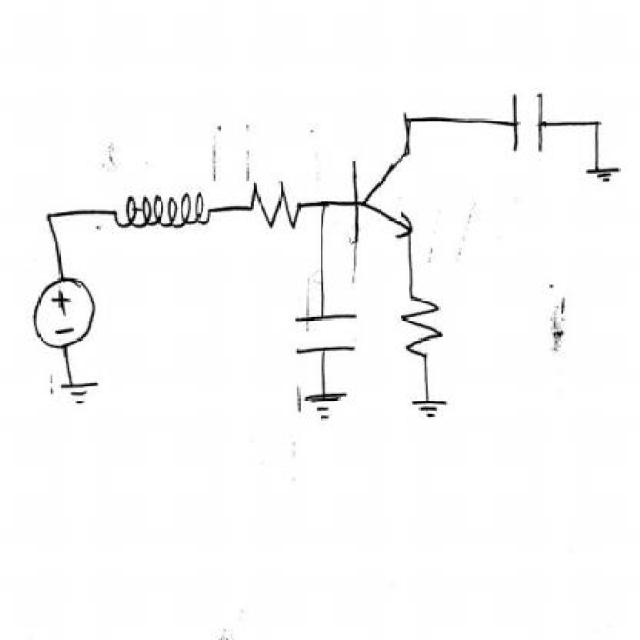capacitor: (293, 308, 364, 357), (504, 85, 551, 158)
ground: (304, 390, 358, 424), (403, 393, 457, 424), (56, 378, 106, 410), (584, 162, 630, 193)
inductor: (114, 187, 217, 236)
resistor: (396, 294, 444, 360), (246, 179, 304, 233)
transistor: (347, 154, 428, 248)
voltage_source: (30, 276, 95, 348)
